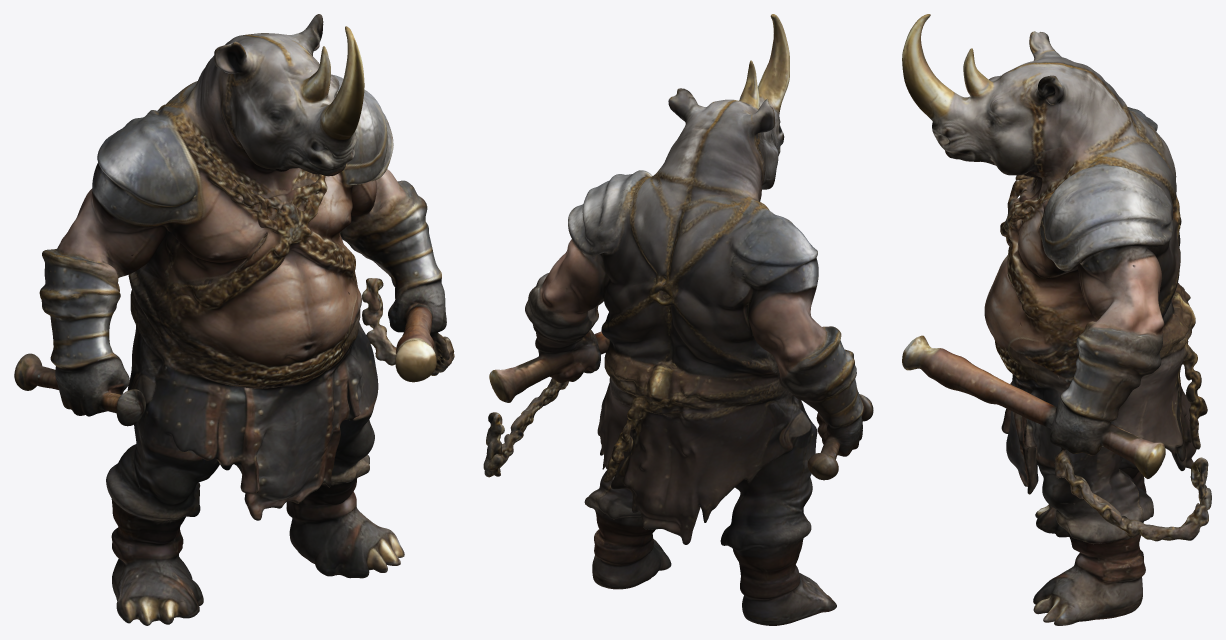
Rendered from character.glb.
3 renders of one model, left to right at view 1: azimuth 30°, elevation 25°; view 2: azimuth 150°, elevation 25°; view 3: azimuth 270°, elevation 25°, orthographic. The views are drawn at different scales.
Visible parts, largest first — view 1: Mesh1_Mesh1.038; view 2: Mesh1_Mesh1.038; view 3: Mesh1_Mesh1.038.
Boxes of the visible parts, x1,y1,x2,y2 form: Mesh1_Mesh1.038: [14, 14, 454, 625]; Mesh1_Mesh1.038: [483, 14, 873, 625]; Mesh1_Mesh1.038: [902, 14, 1211, 625].
Size of the model in its own units: 1.42 by 2 by 1.01.
Materials: 1 (1 with a texture image).
